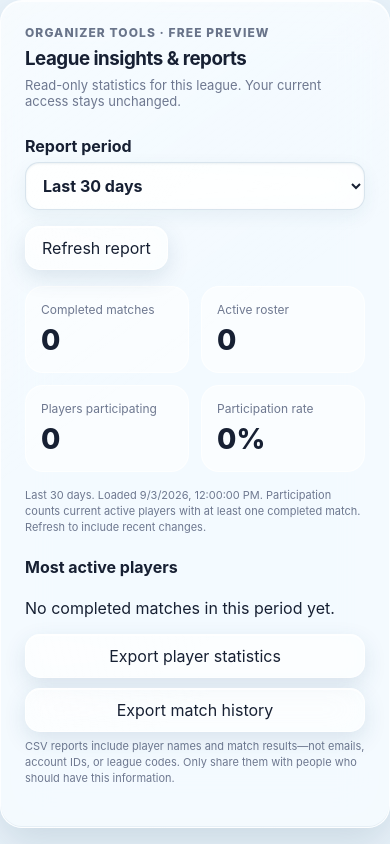
Test: organizer insights › shows export failures without reporting success
Expected: the button "Export player statistics" is enabled, [25,634,365,678]
Click the button "Export match history": click(195, 710) [25,688,365,732]
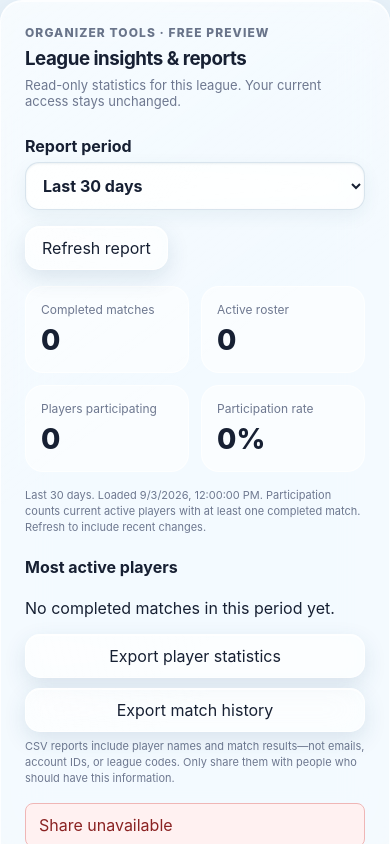
Expected: the message reads "Share unavailable", [39,815,173,835]
